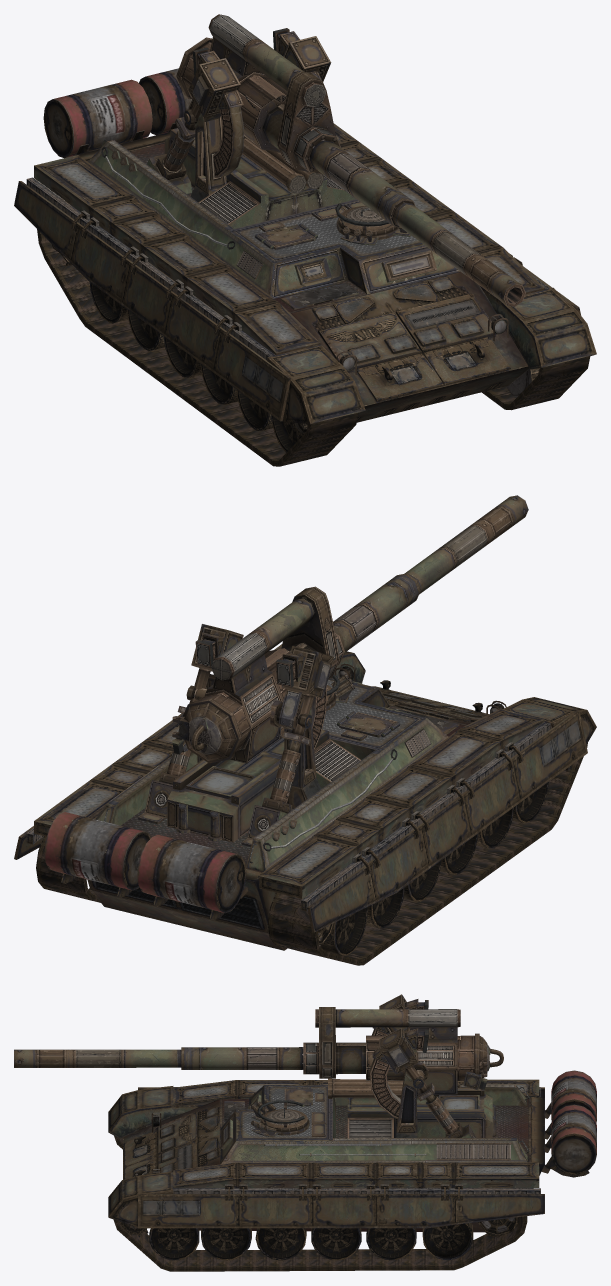
File: artillery_tank_variation.fbx
3 views of the same model, one above another, from view 1: azimuth 30°, elevation 25°; view 2: azimuth 150°, elevation 25°; view 3: azimuth 270°, elevation 25° (orthographic). The views are drawn at different scales.
Visible parts, largest first — view 1: polySurface12869, Final_scene3:basalisk_lowpoly:polySurface10282, polySurface12947, polySurface12922, polySurface12948_DUP, polySurface12956, polySurface12853, polySurface12855, polySurface12856, polySurface12854, polySurface12857, polySurface12858; view 2: polySurface12869, Final_scene3:basalisk_lowpoly:polySurface10282, polySurface12947, polySurface12922, polySurface12948_DUP, polySurface12853, polySurface12956, polySurface12854, polySurface12857, polySurface12855, polySurface12856, polySurface12858; view 3: polySurface12869, Final_scene3:basalisk_lowpoly:polySurface10282, polySurface12947, polySurface12956, polySurface12948_DUP, polySurface12867, polySurface12865, polySurface12861, polySurface12863, polySurface12864, polySurface12866, polySurface12868.
Boxes of the visible parts, bbox=[...] form: polySurface12869: bbox=[14, 68, 596, 424]; Final_scene3:basalisk_lowpoly:polySurface10282: bbox=[88, 31, 460, 309]; polySurface12947: bbox=[176, 14, 415, 227]; polySurface12922: bbox=[37, 201, 358, 466]; polySurface12948_DUP: bbox=[392, 202, 525, 306]; polySurface12956: bbox=[482, 356, 590, 410]; polySurface12853: bbox=[89, 282, 128, 323]; polySurface12855: bbox=[163, 336, 201, 377]; polySurface12856: bbox=[200, 363, 238, 404]; polySurface12854: bbox=[127, 310, 164, 350]; polySurface12857: bbox=[236, 390, 272, 430]; polySurface12858: bbox=[271, 415, 307, 452]; polySurface12869: bbox=[14, 644, 596, 950]; Final_scene3:basalisk_lowpoly:polySurface10282: bbox=[95, 624, 459, 871]; polySurface12947: bbox=[172, 573, 420, 763]; polySurface12922: bbox=[267, 725, 587, 965]; polySurface12948_DUP: bbox=[404, 495, 528, 594]; polySurface12853: bbox=[320, 907, 367, 955]; polySurface12956: bbox=[36, 836, 100, 902]; polySurface12854: bbox=[366, 887, 405, 928]; polySurface12857: bbox=[476, 807, 514, 848]; polySurface12855: bbox=[403, 861, 441, 901]; polySurface12856: bbox=[440, 834, 477, 875]; polySurface12858: bbox=[512, 782, 548, 823]; polySurface12869: bbox=[108, 1070, 596, 1232]; Final_scene3:basalisk_lowpoly:polySurface10282: bbox=[220, 994, 529, 1164]; polySurface12947: bbox=[181, 1000, 503, 1118]; polySurface12956: bbox=[113, 1187, 527, 1271]; polySurface12948_DUP: bbox=[14, 1049, 181, 1067]; polySurface12867: bbox=[422, 1223, 473, 1259]; polySurface12865: bbox=[311, 1228, 361, 1260]; polySurface12861: bbox=[149, 1228, 199, 1260]; polySurface12863: bbox=[201, 1228, 251, 1260]; polySurface12864: bbox=[255, 1228, 306, 1260]; polySurface12866: bbox=[366, 1228, 416, 1260]; polySurface12868: bbox=[478, 1217, 517, 1236].
Bounding box in the file's own units: 194 × 170 × 422.
